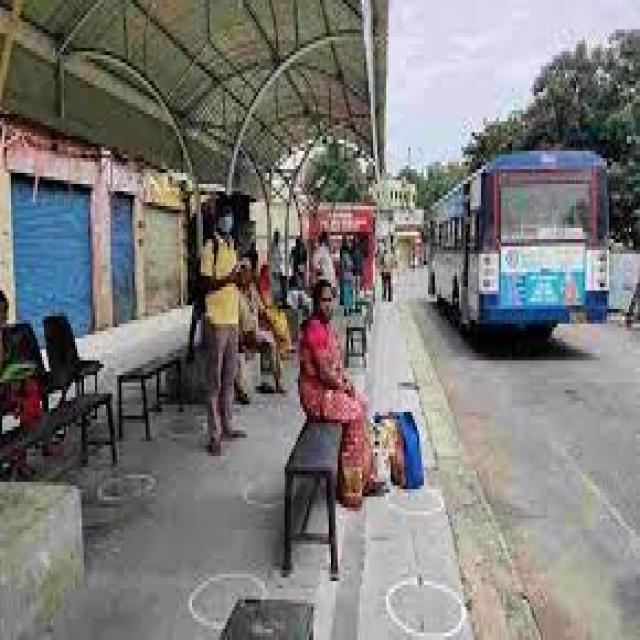bus: (349, 187, 509, 495)
person: (13, 373, 78, 622)
